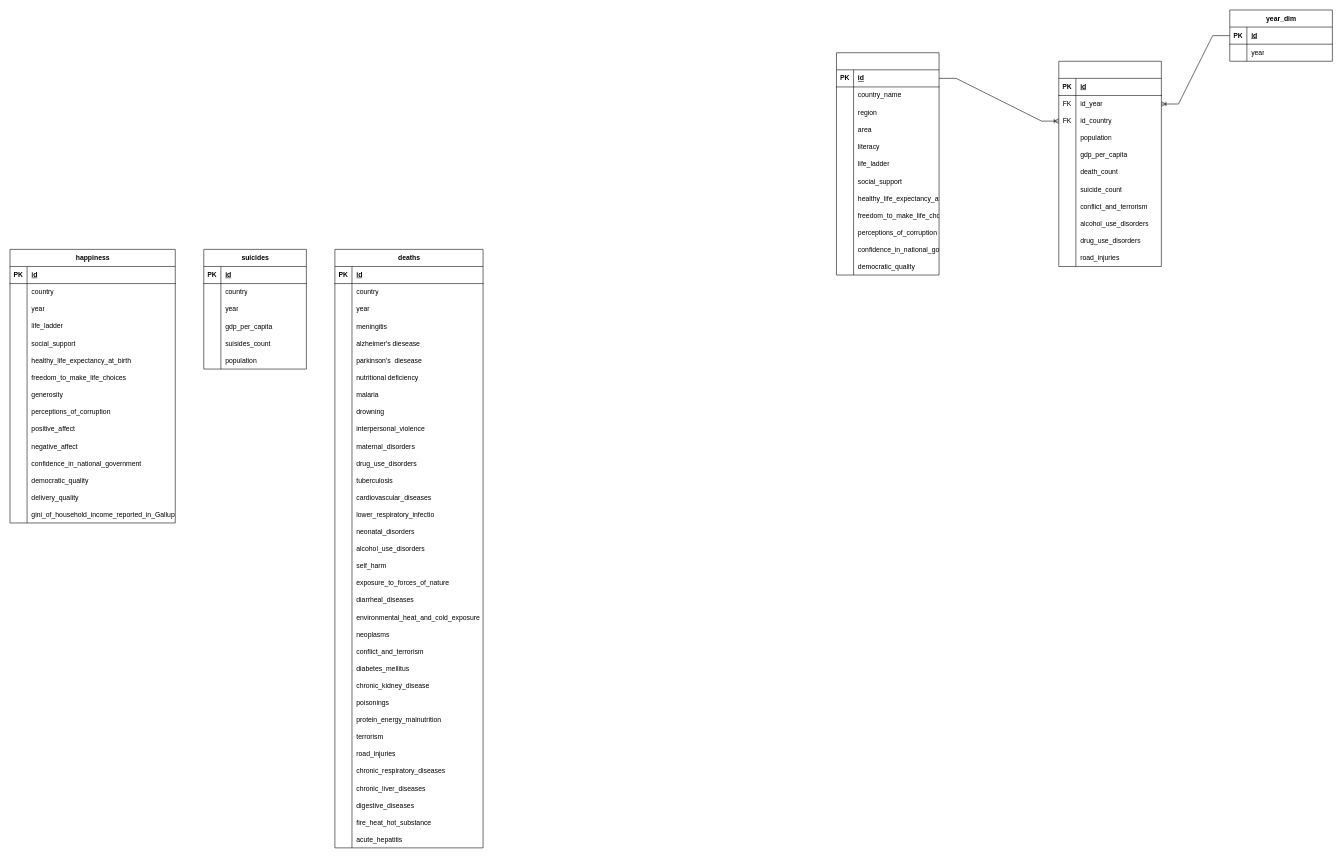
Some shapes in this 1342 by 858 pixel diagram are drawn without their labels. The box of each missing label's shape, as (x1, y1, x2, y2) in pixels:
country_dim: (836, 52, 939, 275)
suicide_fact: (1058, 61, 1161, 266)
